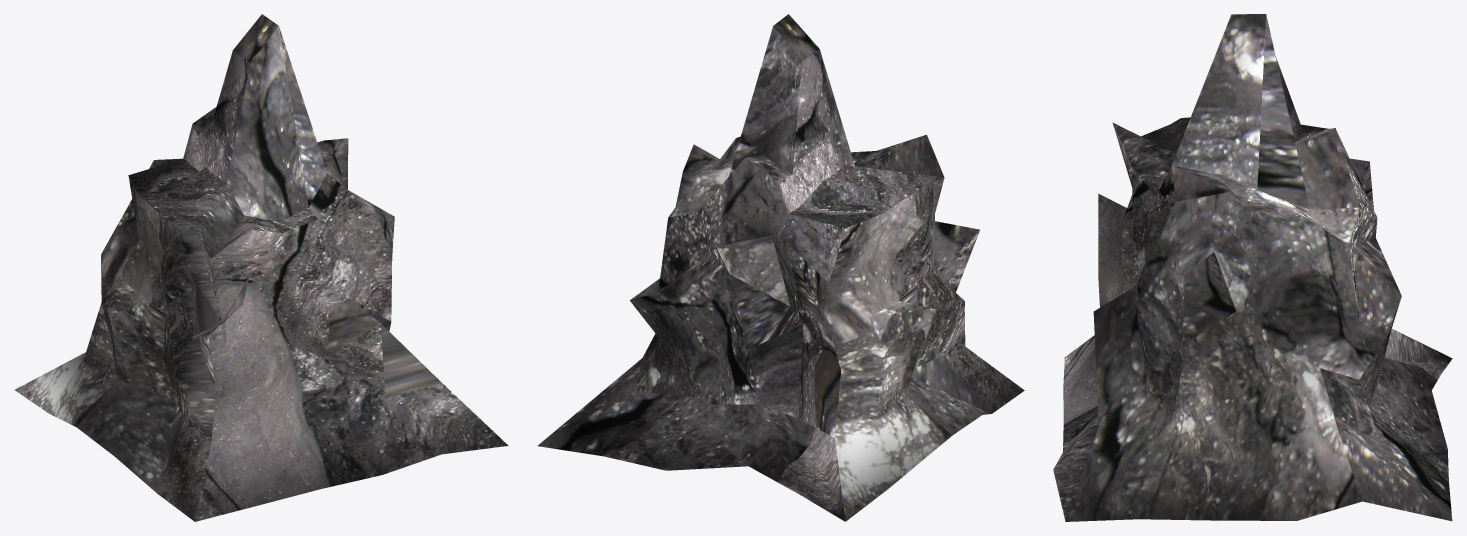
The model's file is estalatictaHierro.fbx.
3 renders of one model, left to right at view 1: azimuth 30°, elevation 25°; view 2: azimuth 150°, elevation 25°; view 3: azimuth 270°, elevation 25°, orthographic. The views are drawn at different scales.
Visible parts, largest first — view 1: Cube_001; view 2: Cube_001; view 3: Cube_001.
Part boxes in pixels (x1,y1,x2,y2): Cube_001: (14,14,508,521); Cube_001: (537,14,1024,521); Cube_001: (1053,14,1452,521).
Bounding box in the file's own units: 14.07 × 16.83 × 13.53.
